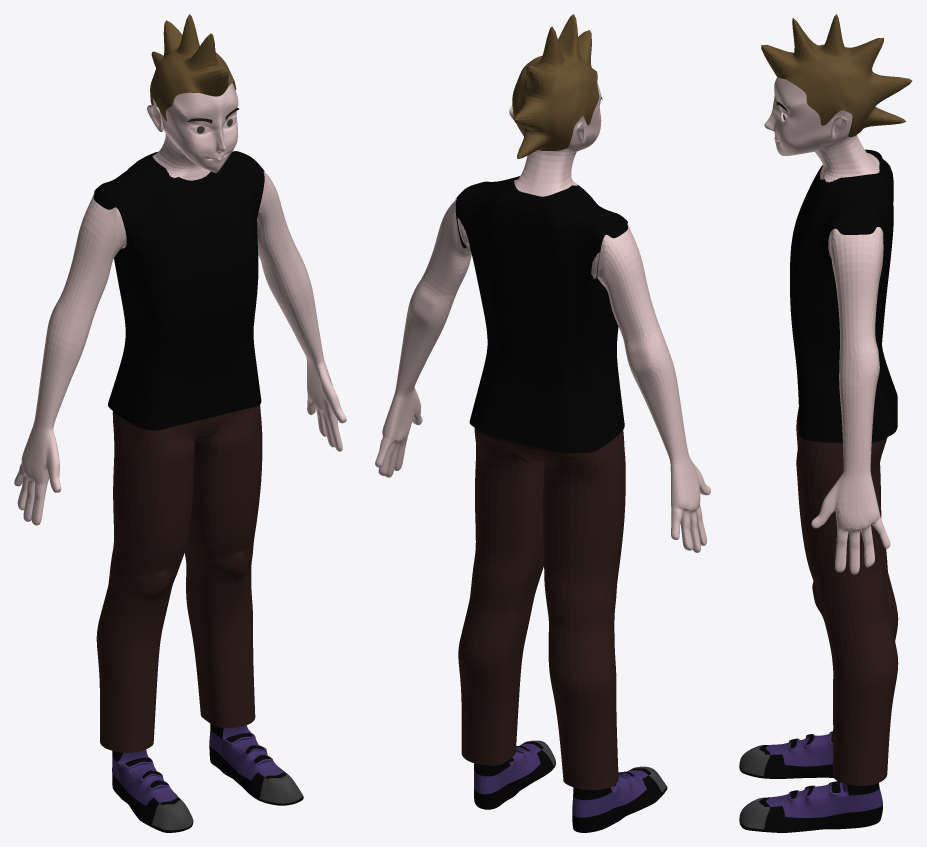
The model's file is irokez_podkoszulka.fbx.
3 renders of one model, left to right at view 1: azimuth 30°, elevation 25°; view 2: azimuth 150°, elevation 25°; view 3: azimuth 270°, elevation 25°, orthographic.
Parts seen in each view (by area): view 1: Pants, T-Shirt, Body, Shoes, Hair_random2; view 2: Pants, T-Shirt, Body, Hair_random2, Shoes; view 3: Pants, Body, T-Shirt, Shoes, Hair_random2.
Part boxes in pixels (bbox=[...]): Pants: bbox=[96, 405, 262, 752]; T-Shirt: bbox=[93, 151, 264, 430]; Body: bbox=[14, 83, 346, 525]; Shoes: bbox=[112, 723, 303, 832]; Hair_random2: bbox=[150, 14, 236, 121]; Pants: bbox=[458, 428, 625, 790]; T-Shirt: bbox=[455, 176, 627, 453]; Body: bbox=[375, 83, 710, 552]; Hair_random2: bbox=[512, 14, 599, 158]; Shoes: bbox=[474, 740, 667, 832]; Pants: bbox=[796, 407, 898, 785]; Body: bbox=[764, 77, 890, 574]; T-Shirt: bbox=[790, 149, 897, 442]; Shoes: bbox=[739, 731, 882, 832]; Hair_random2: bbox=[761, 14, 912, 137].
Bounding box in the file's own units: 80.87 × 191 × 38.31.
